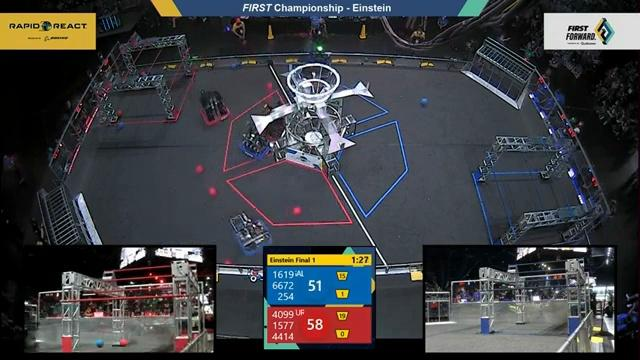robot: (227, 208, 278, 259), (234, 119, 276, 164), (252, 102, 290, 143), (196, 87, 233, 129), (298, 41, 338, 77)
